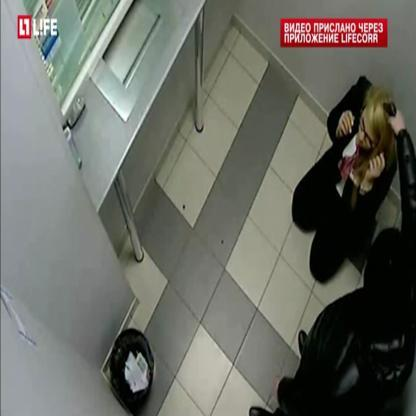pistols: (382, 98, 406, 137)
